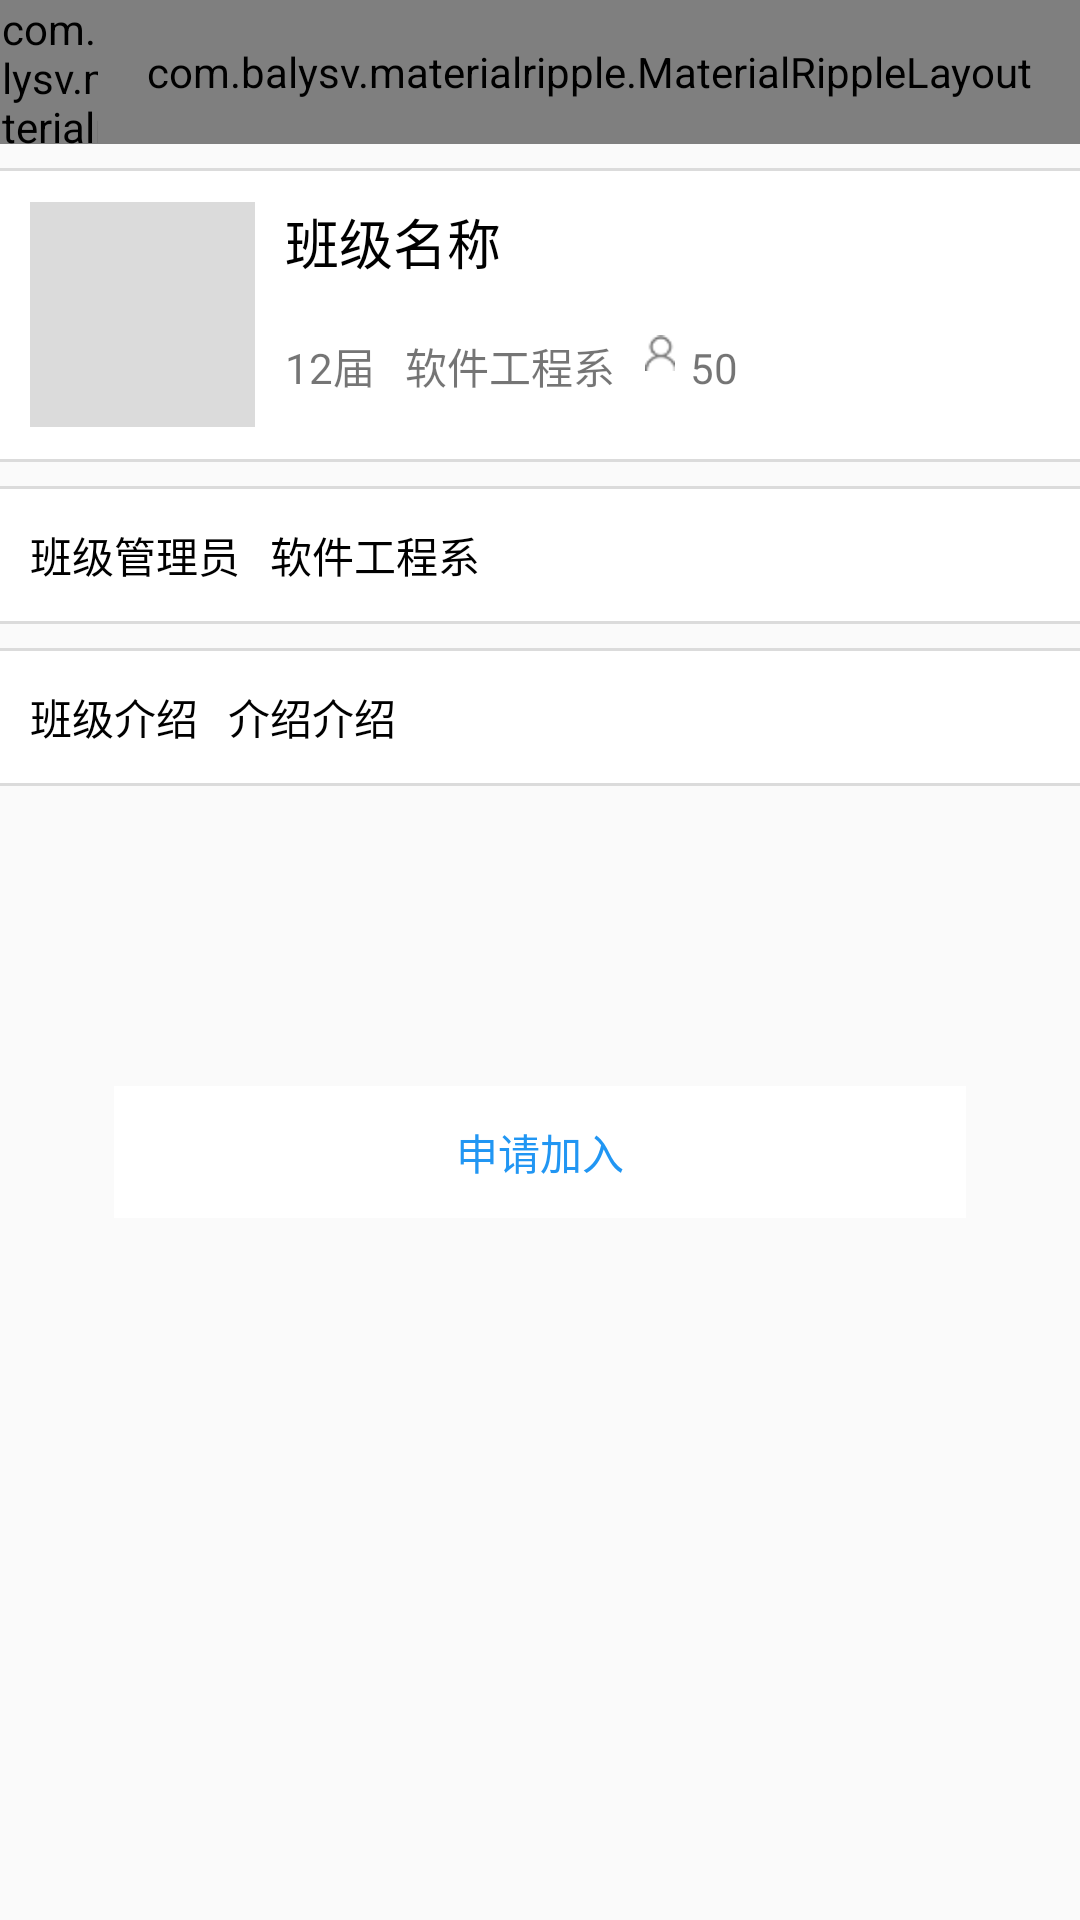

Locate icon controls on the screen. Image size 1080x1920, boxes as [left=x1, top=y1, right=x2, bottom=y2].
person: [left=645, top=335, right=675, bottom=371]
